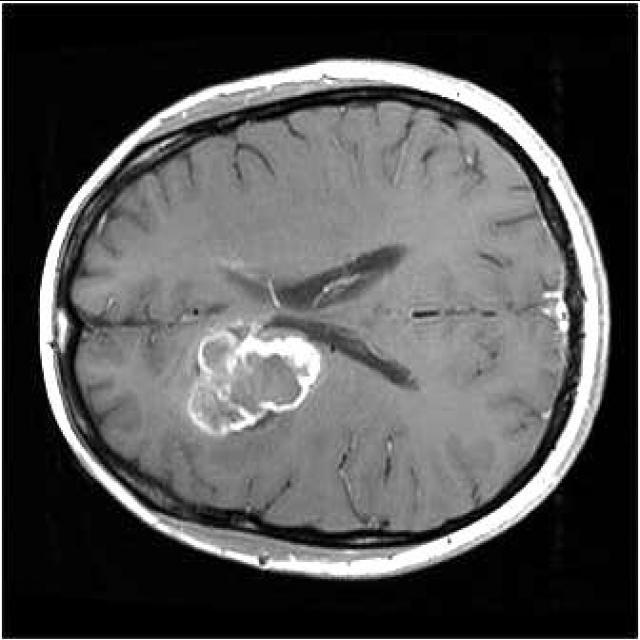tumor: (183, 311, 331, 437)
